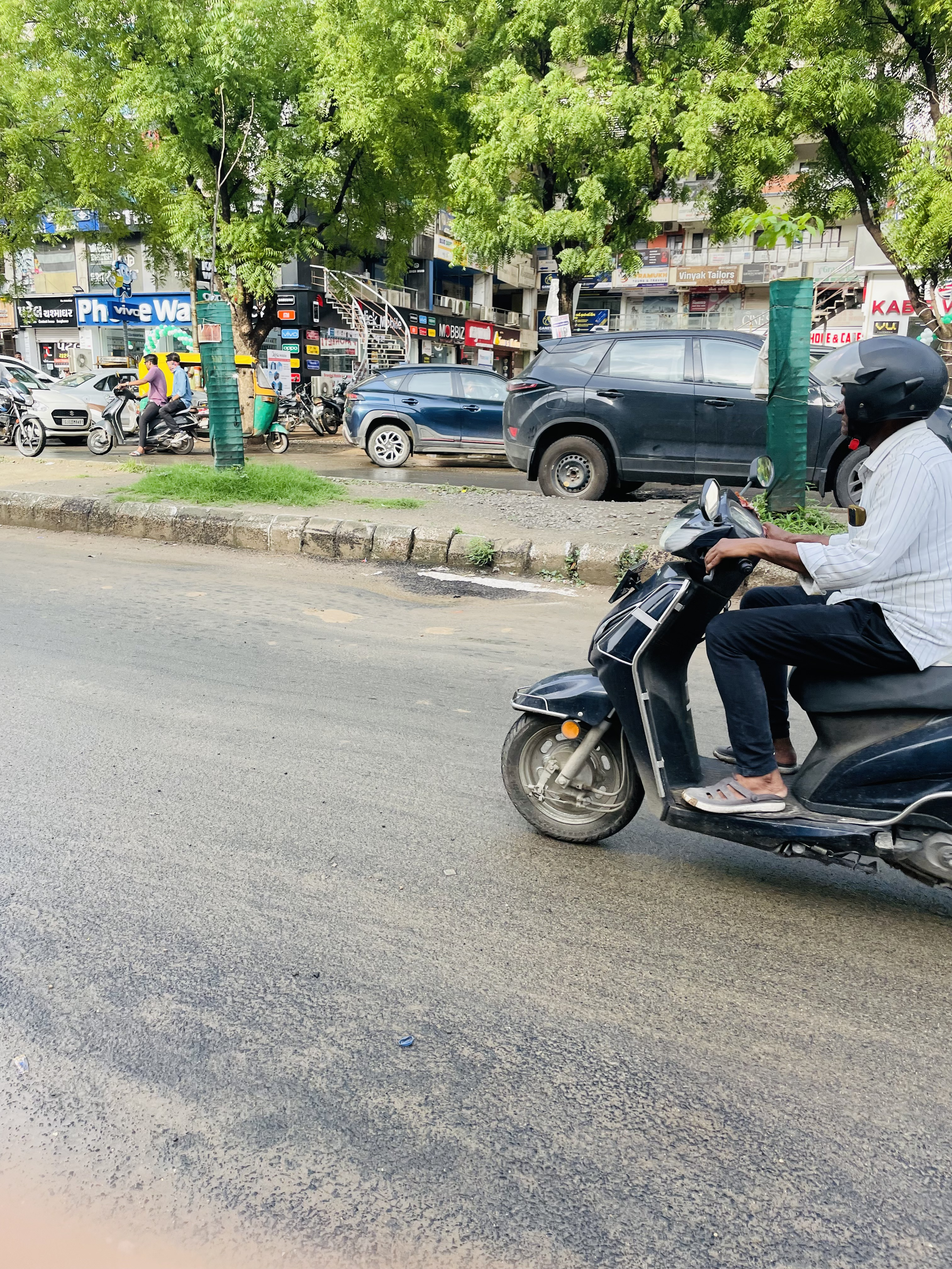BikeWithRider: (484, 315, 952, 900), (82, 349, 204, 457)
Helmet: (816, 323, 952, 444)
NoHelmet: (139, 352, 162, 375), (161, 352, 185, 374)
